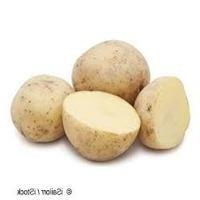biodegradable: (62, 89, 142, 162), (71, 38, 151, 102), (9, 73, 74, 144), (133, 74, 191, 150)
